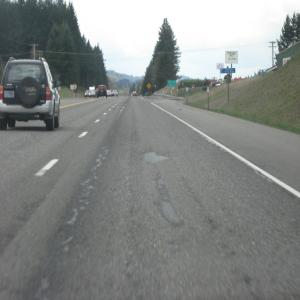Vehicle-registration-plate: (4, 91, 16, 99)
